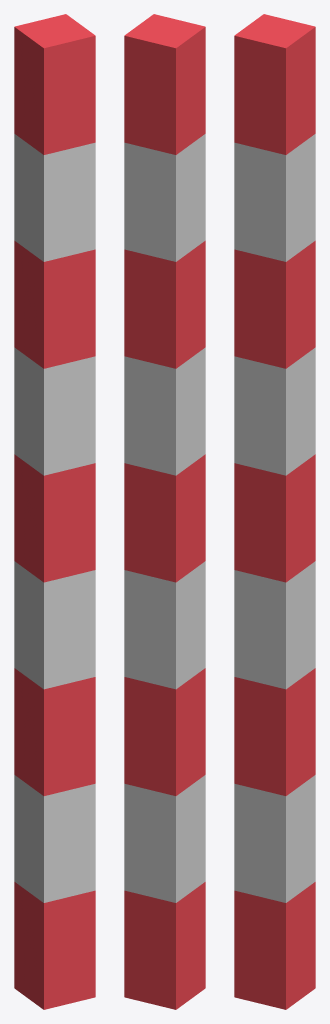
Rendered from masto_120m_LOD02.gltf.
3 renders of one model, left to right at view 1: azimuth 30°, elevation 25°; view 2: azimuth 150°, elevation 25°; view 3: azimuth 330°, elevation 25°, orthographic.
Visible parts, largest first — view 1: masto_120m.002; view 2: masto_120m.002; view 3: masto_120m.002.
Boxes of the visible parts, box(x1,y1,x2,y2) form: masto_120m.002: box(14, 14, 95, 1009); masto_120m.002: box(124, 14, 205, 1009); masto_120m.002: box(234, 14, 315, 1009).
Bounding box in the file's own units: 6.81 × 121 × 6.74.
